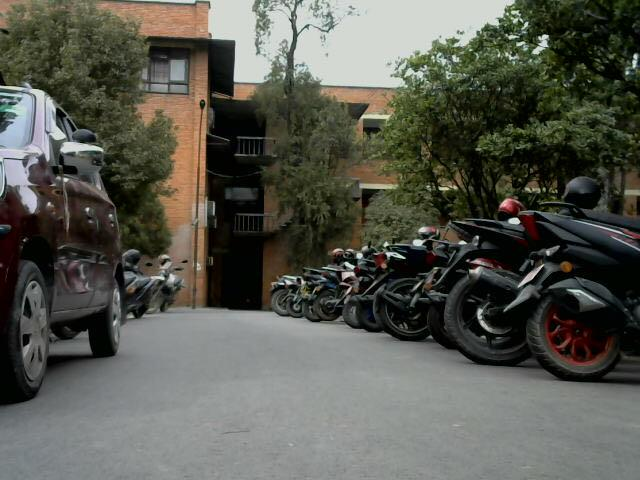Car: (1, 80, 129, 398)
Electrical Pole: (180, 91, 216, 319)
Motorcycle: (499, 193, 640, 382), (359, 214, 448, 341), (131, 249, 205, 333)
Road: (59, 313, 594, 480)
Tree: (399, 0, 640, 191), (256, 0, 379, 282)
